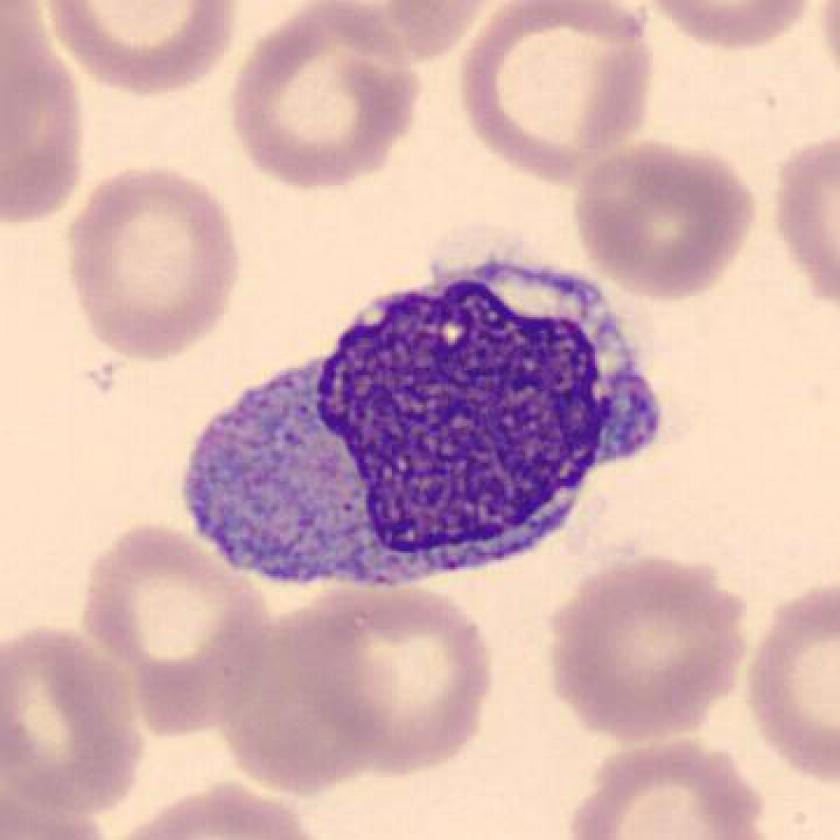monocyte: (169, 235, 682, 610)
